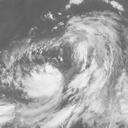cyclone: (66, 15, 120, 67), (22, 63, 65, 101)
